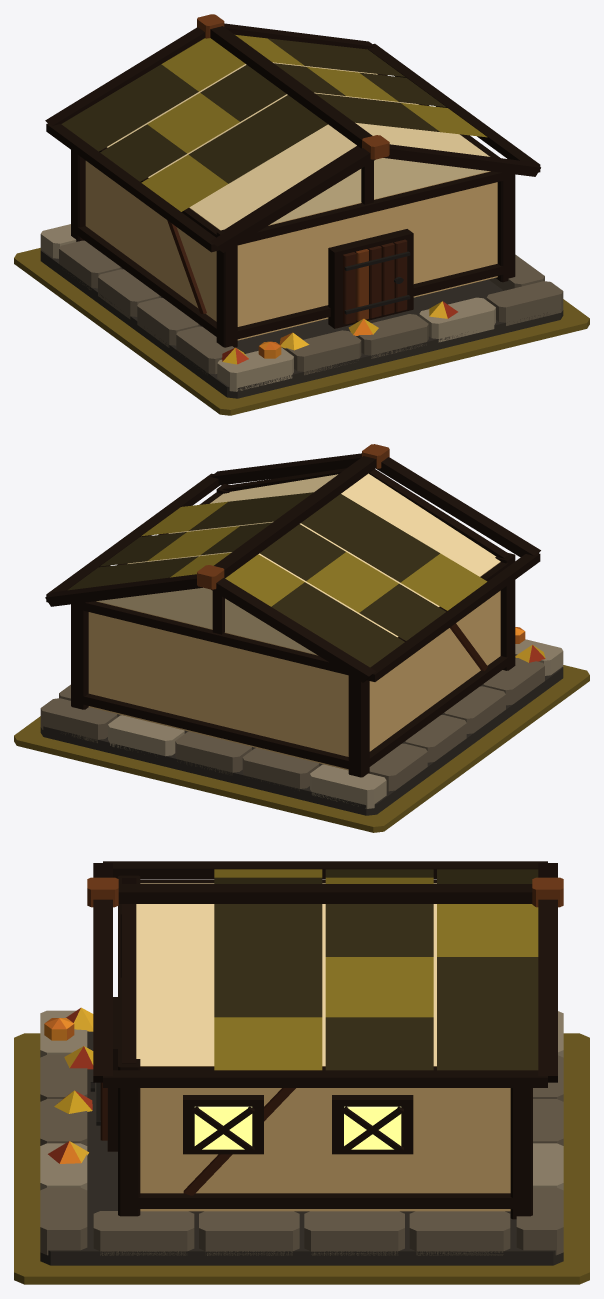
Rendered from longhouse_t1.glb.
3 renders of one model, top to bottom at view 1: azimuth 30°, elevation 25°; view 2: azimuth 150°, elevation 25°; view 3: azimuth 270°, elevation 25°, orthographic. The views are drawn at different scales.
Visible parts, largest first — view 1: MMR | longhouse | T01 Architecture.001, MMR | longhouse | Tier 01 Ground.001, MMR | longhouse | T01 Autumn Dressing.001; view 2: MMR | longhouse | T01 Architecture.001, MMR | longhouse | Tier 01 Ground.001, MMR | longhouse | T01 Autumn Dressing.001; view 3: MMR | longhouse | T01 Architecture.001, MMR | longhouse | Tier 01 Ground.001, MMR | longhouse | T01 Autumn Dressing.001.
Boxes of the visible parts, bbox=[...] form: MMR | longhouse | T01 Architecture.001: bbox=[40, 14, 563, 398]; MMR | longhouse | Tier 01 Ground.001: bbox=[14, 248, 589, 415]; MMR | longhouse | T01 Autumn Dressing.001: bbox=[221, 301, 457, 364]; MMR | longhouse | T01 Architecture.001: bbox=[40, 444, 563, 815]; MMR | longhouse | Tier 01 Ground.001: bbox=[14, 665, 589, 832]; MMR | longhouse | T01 Autumn Dressing.001: bbox=[515, 627, 545, 662]; MMR | longhouse | T01 Architecture.001: bbox=[40, 861, 563, 1265]; MMR | longhouse | Tier 01 Ground.001: bbox=[14, 1033, 589, 1284]; MMR | longhouse | T01 Autumn Dressing.001: bbox=[44, 1007, 93, 1163].
Size of the model in its own units: 3.3 by 1.77 by 3.3.
2 materials, 1 textured.
